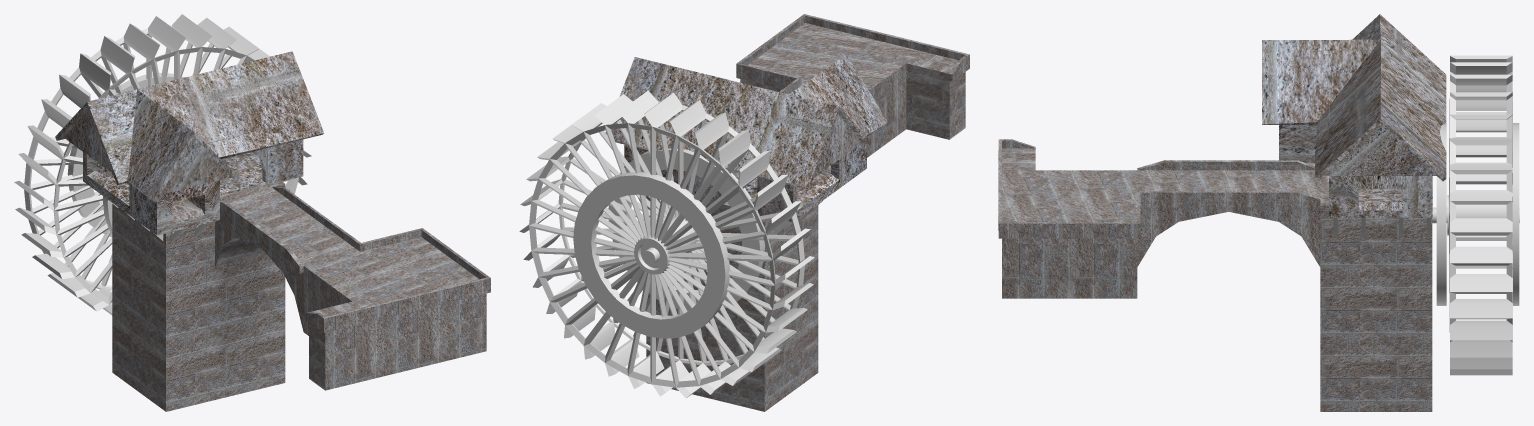
The model's file is WaterWheel.fbx.
The picture shows the model from 3 angles, left to right: view 1: azimuth 30°, elevation 25°; view 2: azimuth 150°, elevation 25°; view 3: azimuth 270°, elevation 25°; orthographic projection. The views are drawn at different scales.
Visible parts, largest first — view 1: Cube, InnerRoof, WaterWheel, Walls, Cube.014; view 2: WaterWheel, Cube, InnerRoof, Walls, Cube.014; view 3: Cube, WaterWheel, InnerRoof, Walls, Cube.014.
Boxes of the visible parts, box(x1,y1,x2,y2) form: Cube: box(112, 181, 490, 411); InnerRoof: box(55, 51, 323, 202); WaterWheel: box(14, 14, 311, 315); Walls: box(83, 135, 303, 235); Cube.014: box(64, 109, 231, 194); WaterWheel: box(519, 90, 814, 398); Cube: box(646, 14, 969, 411); InnerRoof: box(605, 54, 887, 189); Walls: box(624, 143, 866, 221); Cube.014: box(814, 114, 861, 177); Cube: box(998, 139, 1432, 411); WaterWheel: box(1432, 55, 1519, 375); InnerRoof: box(1262, 14, 1446, 181); Walls: box(1279, 106, 1432, 217); Cube.014: box(1325, 122, 1436, 175).
Bounding box in the file's own units: 945 × 1038 × 1538.
